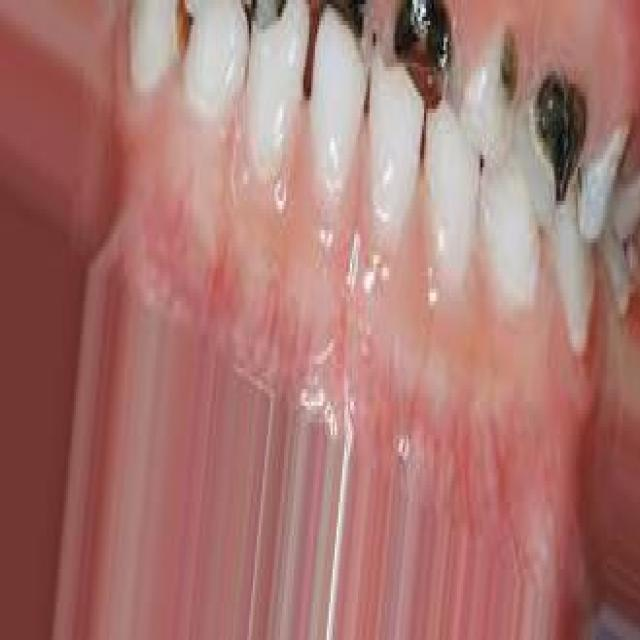caries: (523, 51, 589, 228), (464, 15, 523, 165), (390, 0, 460, 122), (317, 0, 371, 82), (247, 0, 290, 50)
